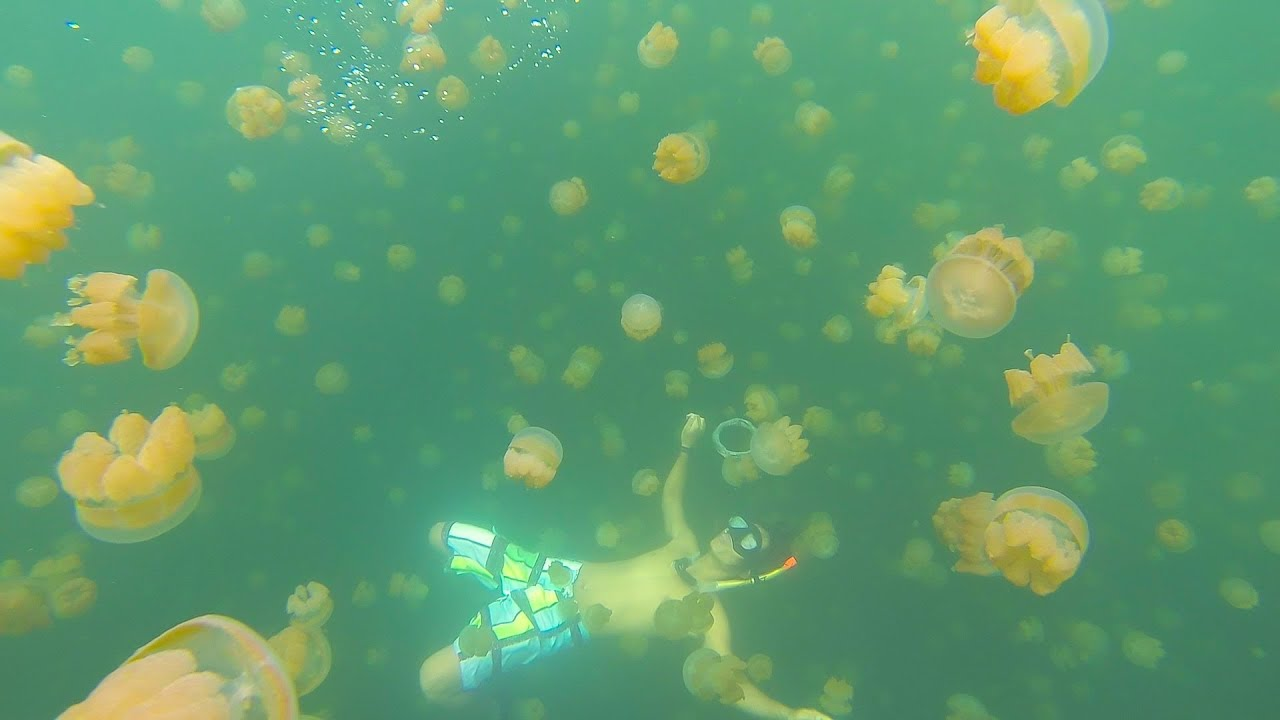jellyfish: (947, 471, 1101, 602), (51, 421, 218, 539), (960, 2, 1129, 118), (914, 212, 1046, 349), (56, 261, 203, 383), (495, 423, 571, 495)
